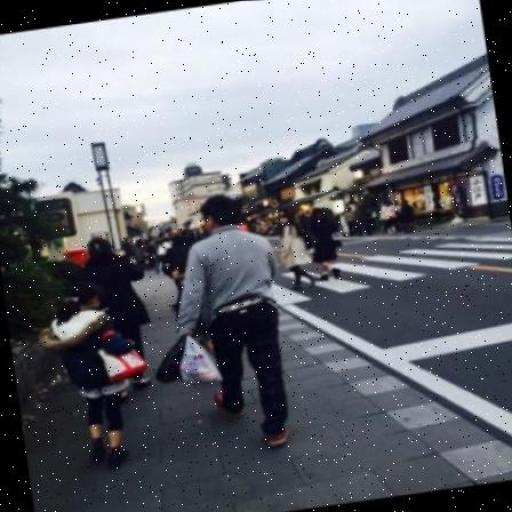person: (162, 189, 302, 456), (276, 209, 321, 290)
